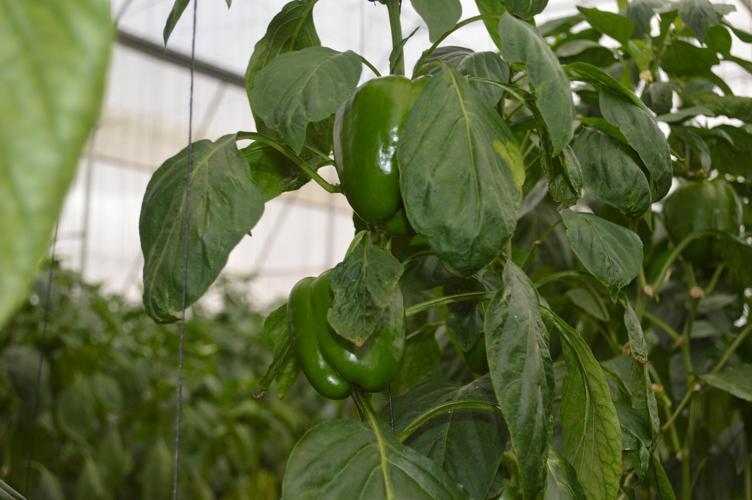BellPepper: (313, 85, 459, 256), (274, 274, 422, 399), (646, 167, 746, 270)
